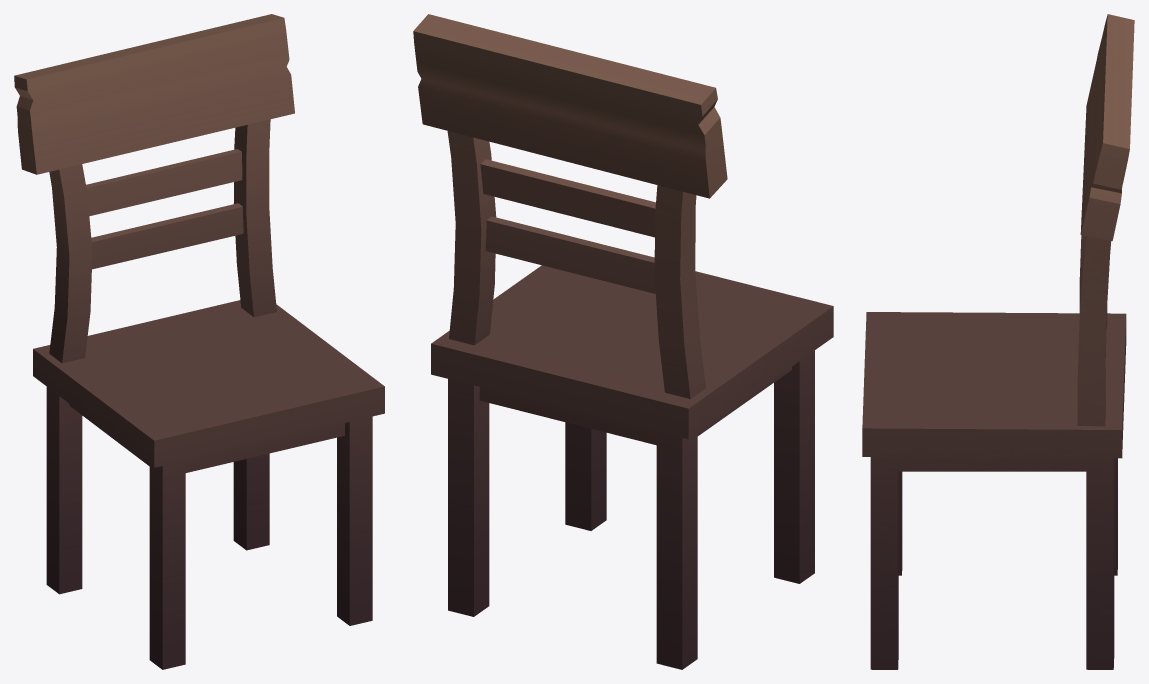
Rendered from Cadeira.fbx.
The picture shows the model from 3 angles, left to right: view 1: azimuth 30°, elevation 25°; view 2: azimuth 150°, elevation 25°; view 3: azimuth 270°, elevation 25°; orthographic projection. The views are drawn at different scales.
Visible parts, largest first — view 1: Cadeira de madeira; view 2: Cadeira de madeira; view 3: Cadeira de madeira.
Part boxes in pixels (x1,y1,x2,y2): Cadeira de madeira: (14,14,384,669); Cadeira de madeira: (413,14,833,669); Cadeira de madeira: (862,14,1134,669).
Size of the model in its own units: 66.71 by 128 by 58.74.
